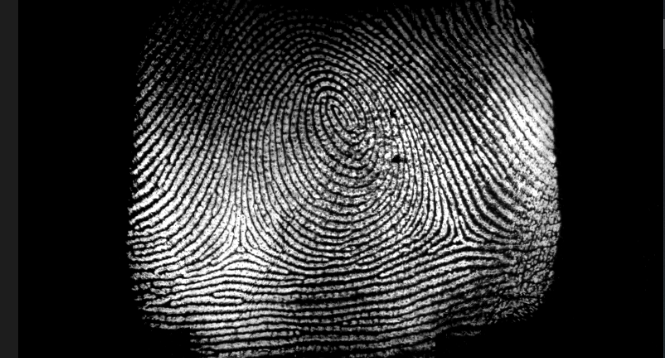deltas: (426, 210, 486, 261), (215, 224, 265, 274)
nucleo: (309, 85, 364, 137)
